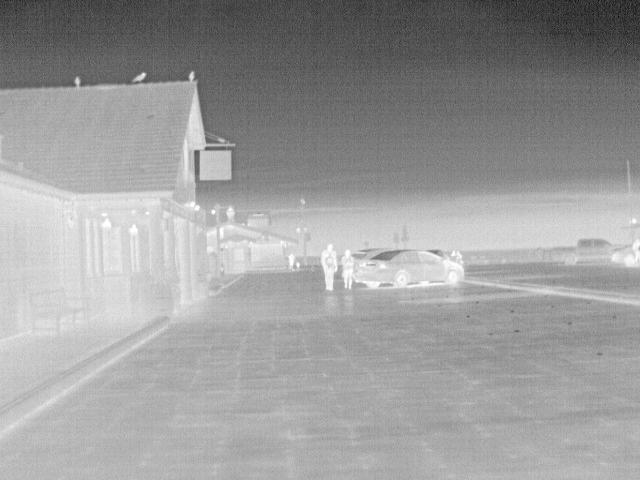car: (352, 248, 467, 290), (548, 237, 625, 267), (611, 240, 640, 268)
person: (321, 240, 338, 290), (340, 248, 355, 290), (627, 240, 640, 265), (284, 251, 296, 271)
